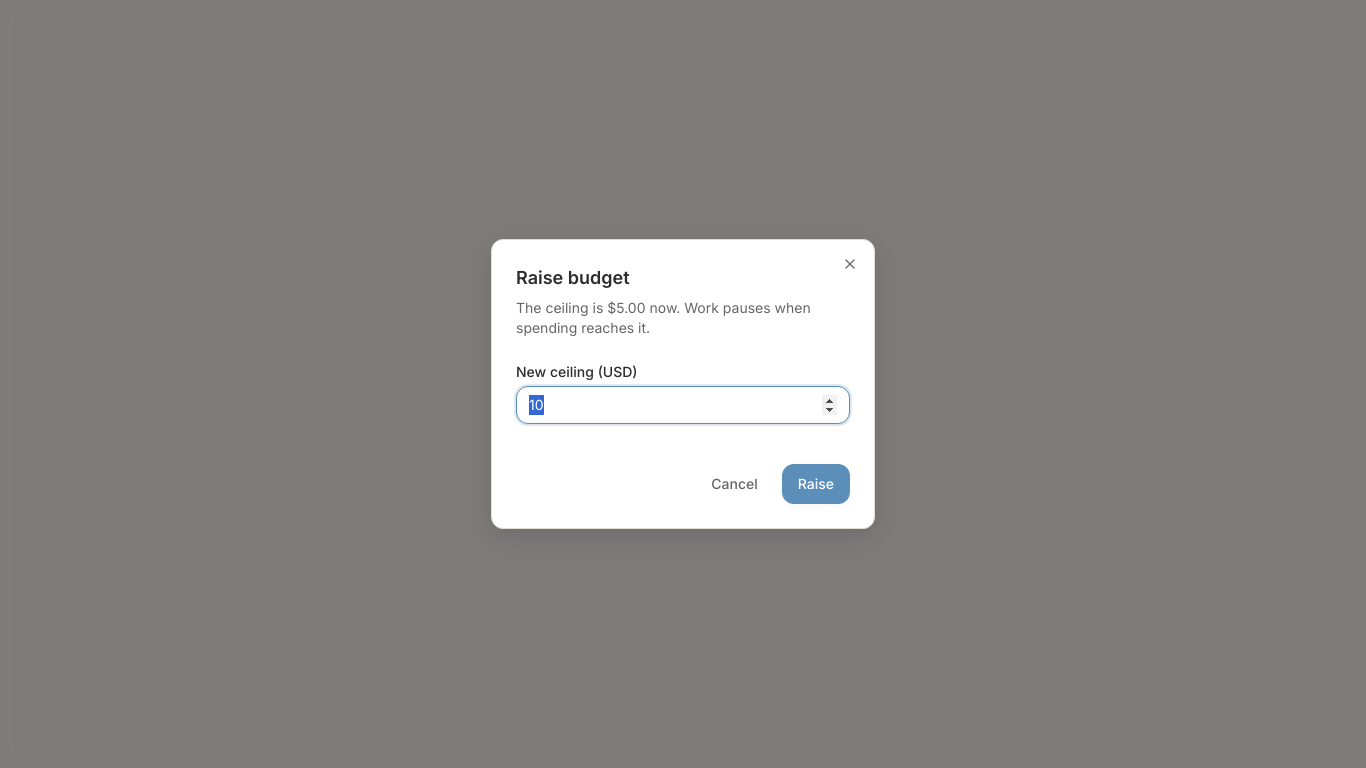
Test: BudgetDialog › shows the server cap error
The image size is (1366, 768).
Replace the text in the number field labelled "New ceiling (USD)" with "80" at {"x": 683, "y": 405}, box [516,386,850,424]
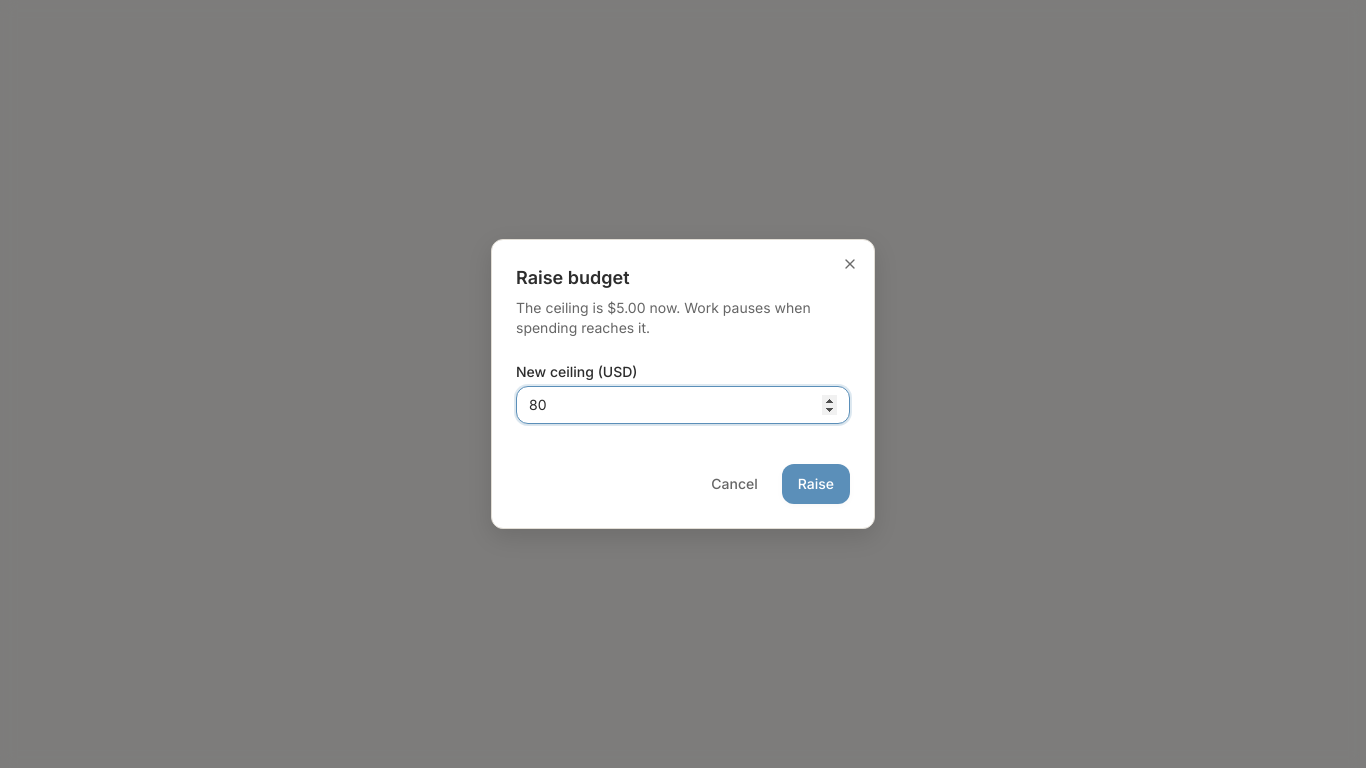
Click the button "Raise" at {"x": 816, "y": 484}, box [782,464,850,504]
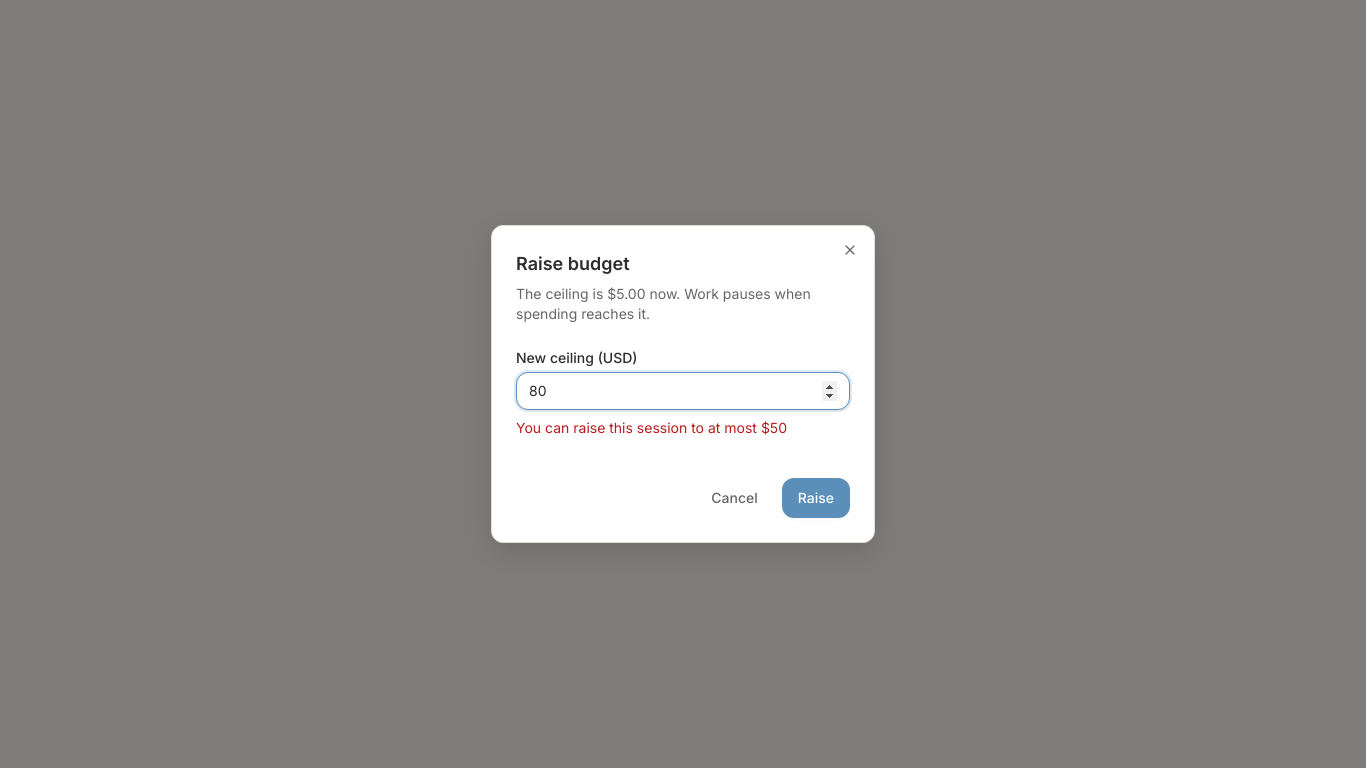
Now the message shows "at most $50", box [516,419,787,436]
